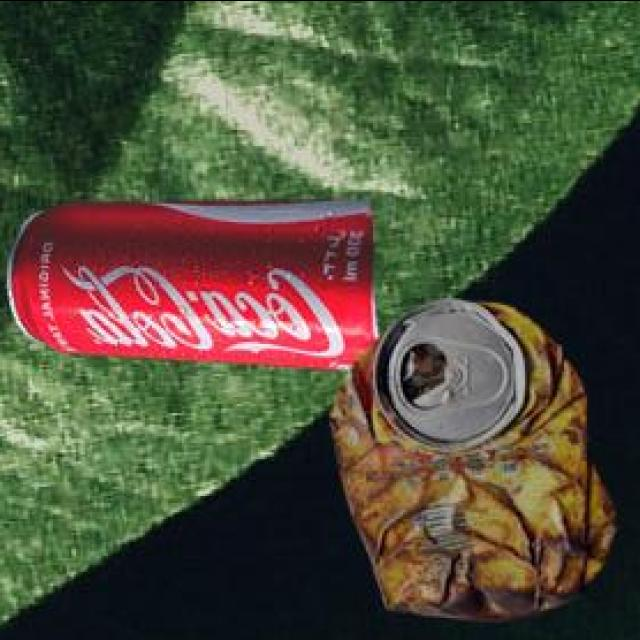logam: (326, 296, 614, 616), (3, 197, 376, 365)
